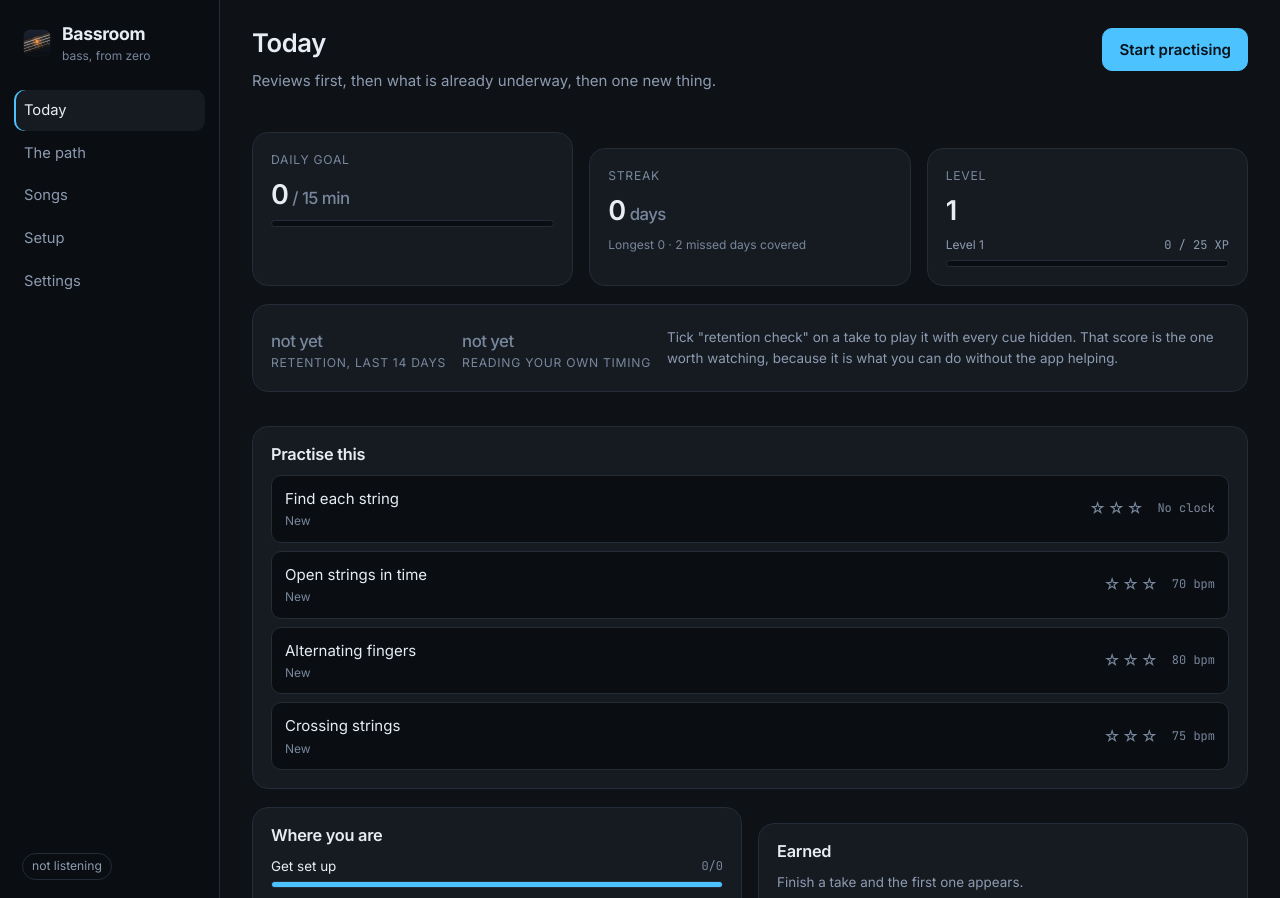
Scenario: navigation › opens Settings without crashing
Click the button "Settings" at (110, 282), box [14,261,205,302]
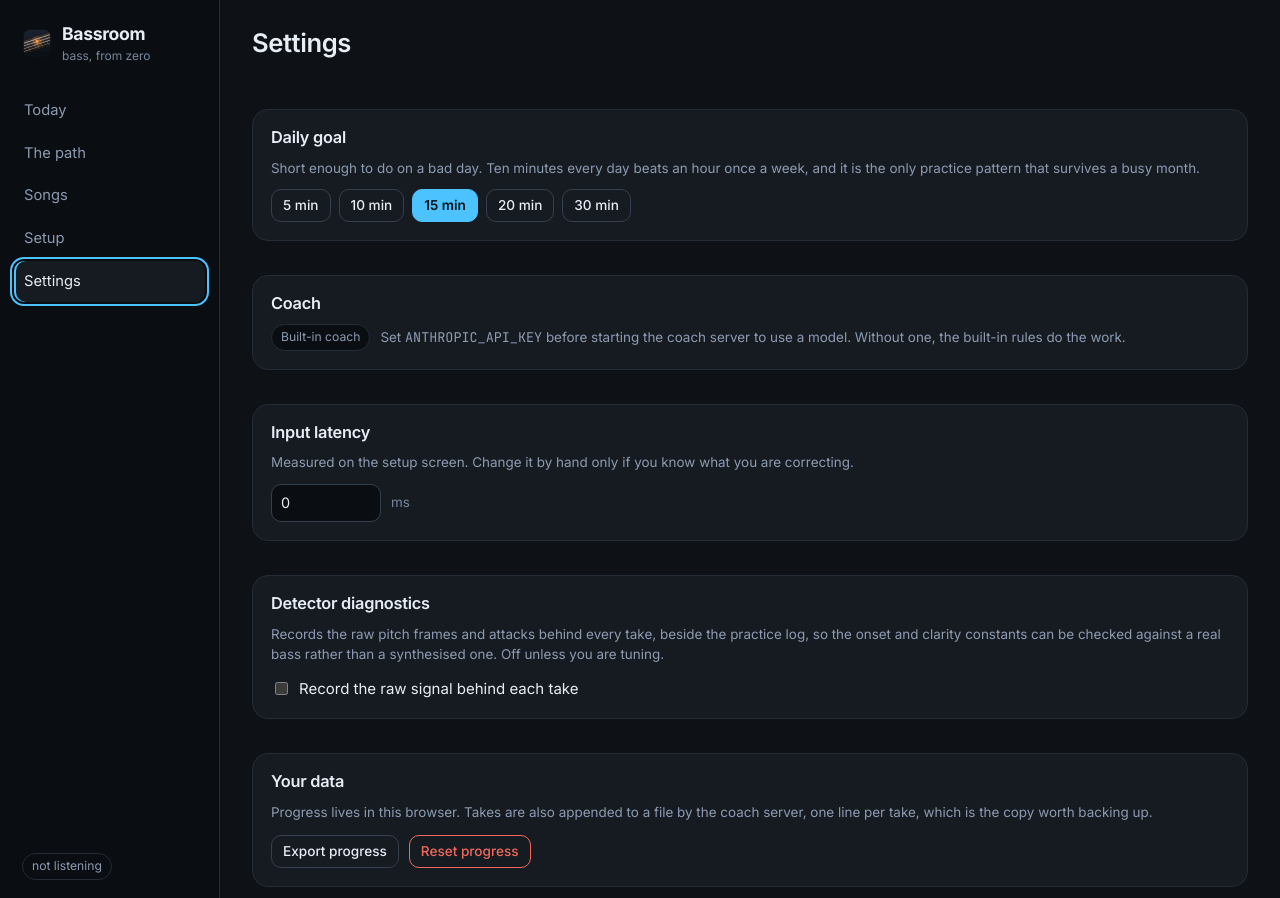
Check: the heading "Settings" is shown, box [252,28,351,59]
